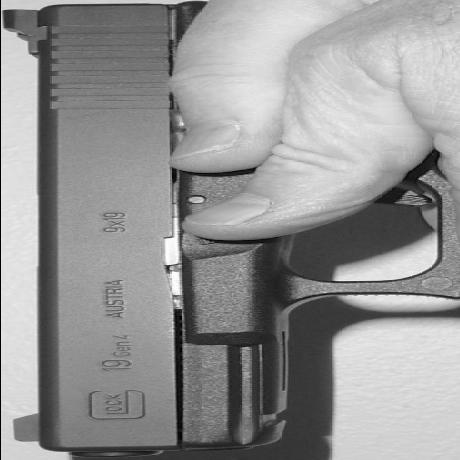weapon: (0, 0, 339, 460)
